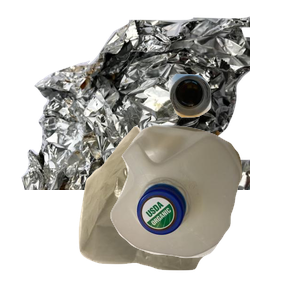glass: (166, 71, 300, 181)
metal: (19, 14, 259, 194)
plastic: (108, 123, 300, 300)
trash: (76, 124, 287, 300)
